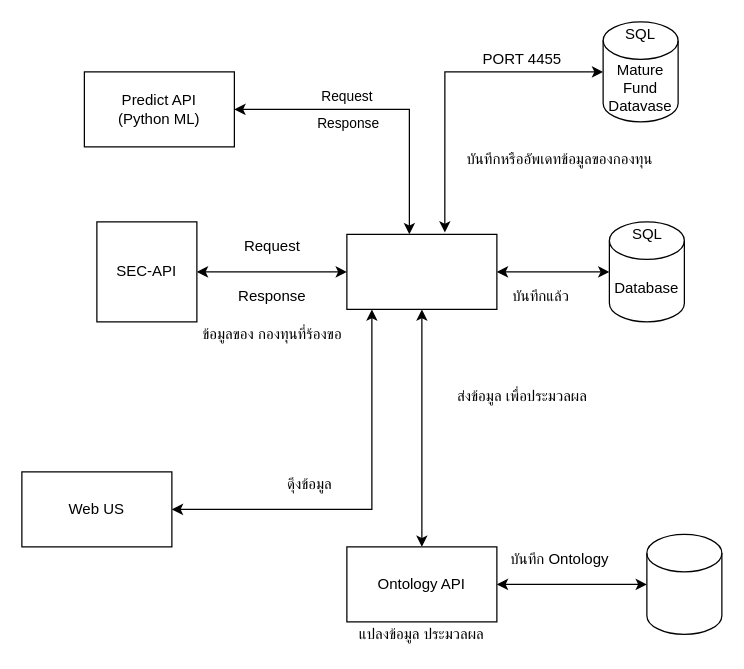
This 744x669 diagram has some shape labels left out. The shapes that lost their labels are listed below. From the top down, each one's centre as x and y in pixels, then its label:
At [421,271]: "API".
At [684,583]: "Ontology Database".
